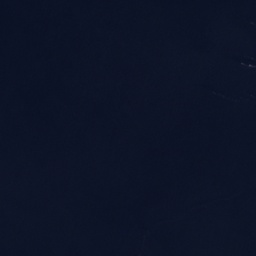Marine Debris: (240, 62, 256, 70)
